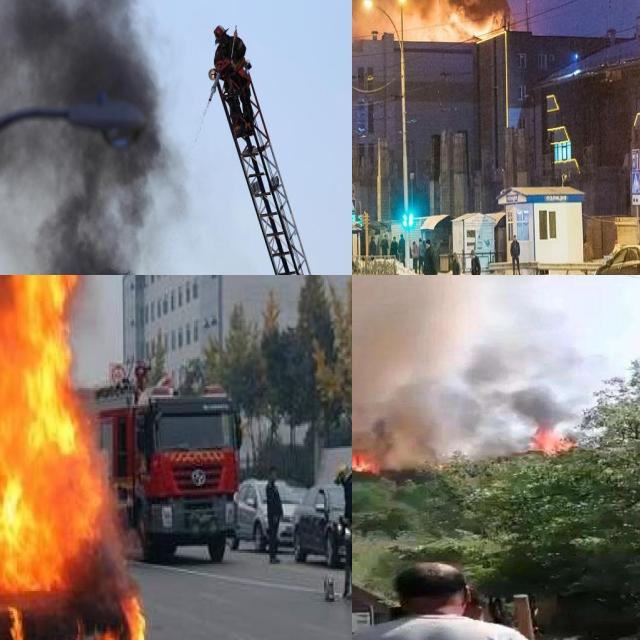fire: (0, 275, 157, 640), (410, 2, 510, 49), (514, 422, 582, 457), (352, 447, 394, 480)
smoke: (15, 0, 184, 275), (479, 346, 590, 418)
